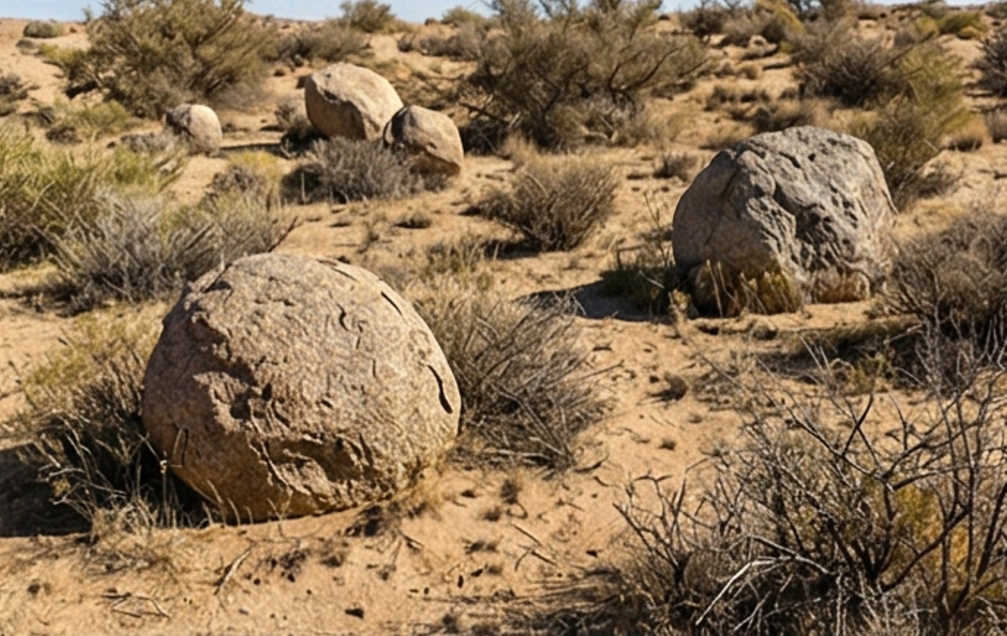rocks: (143, 253, 459, 519), (672, 127, 895, 302), (305, 63, 463, 175)
